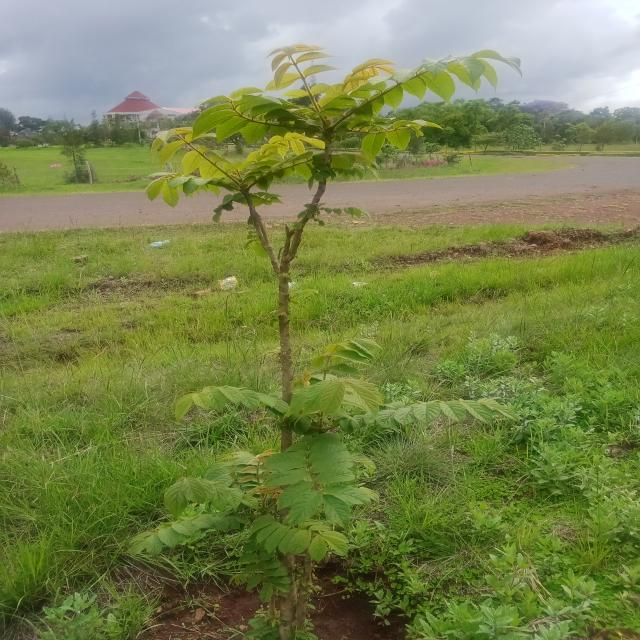Polyscias Kikuyensis: (146, 32, 525, 587)
